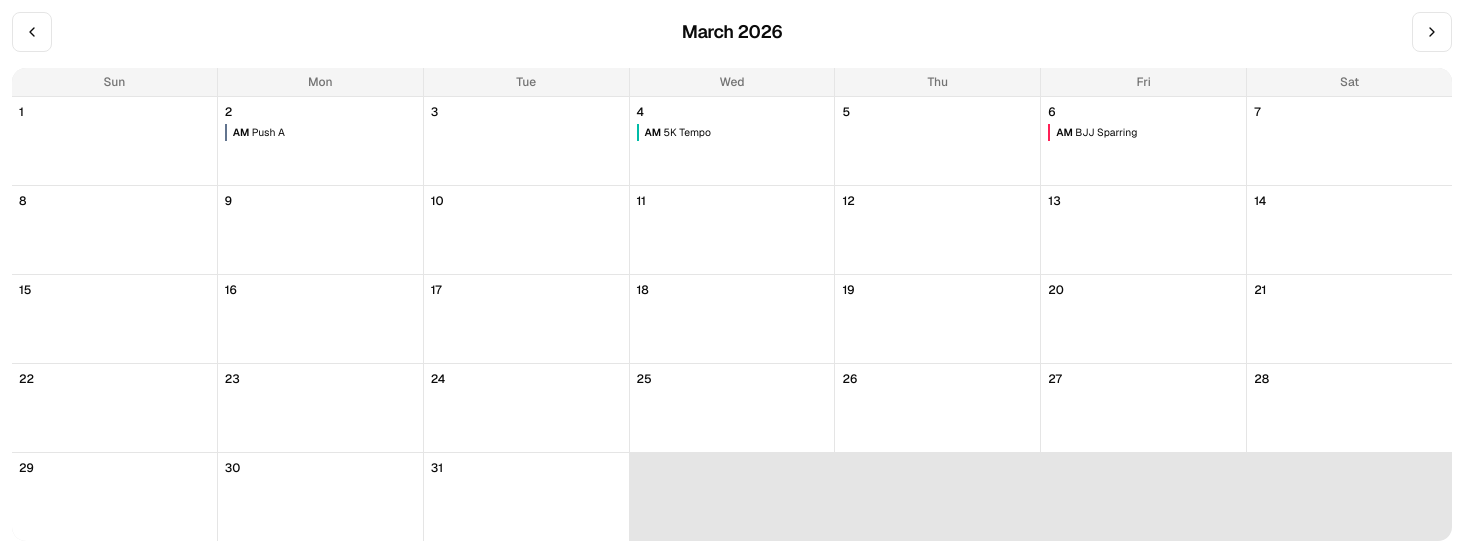
Test: CalendarGrid › navigates to previous month
expect the heading "March 2026" is shown: met, box x1=682 y1=18 x2=782 y2=46
Click the button named "prev": (32,32) x1=12 y1=12 x2=52 y2=52
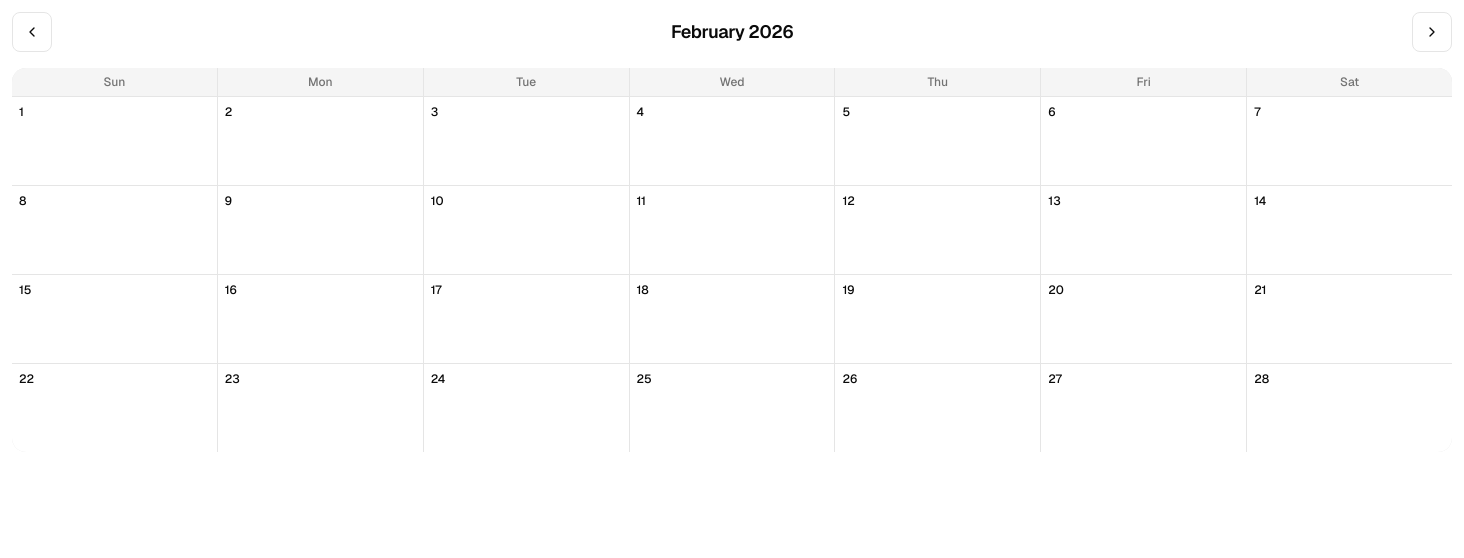
expect the heading "February 2026" is shown: met, box x1=671 y1=18 x2=793 y2=46
